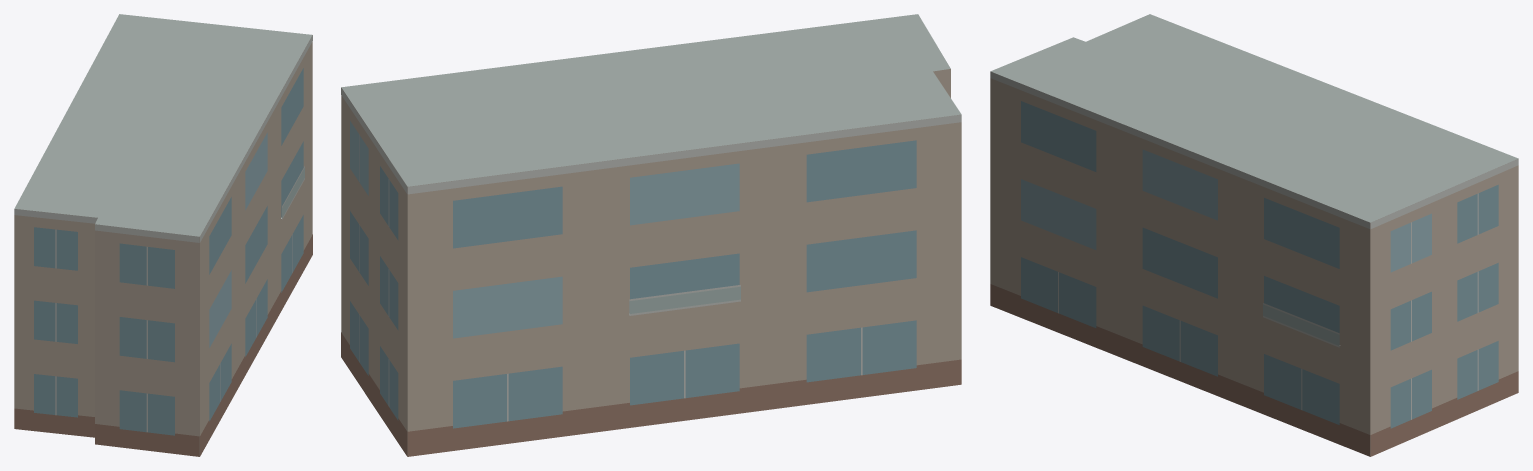
Rendered from survey-upis-32776044.glb.
3 renders of one model, left to right at view 1: azimuth 30°, elevation 25°; view 2: azimuth 150°, elevation 25°; view 3: azimuth 270°, elevation 25°, orthographic. The views are drawn at different scales.
Visible parts, largest first — view 1: survey-upis-32776044.tmp; view 2: survey-upis-32776044.tmp; view 3: survey-upis-32776044.tmp.
Boxes of the visible parts, <box> form: survey-upis-32776044.tmp: <box>14,14,312,456</box>; survey-upis-32776044.tmp: <box>341,14,961,456</box>; survey-upis-32776044.tmp: <box>990,14,1518,456</box>.
Bounding box in the file's own units: 16.44 × 8.6 × 17.59.
